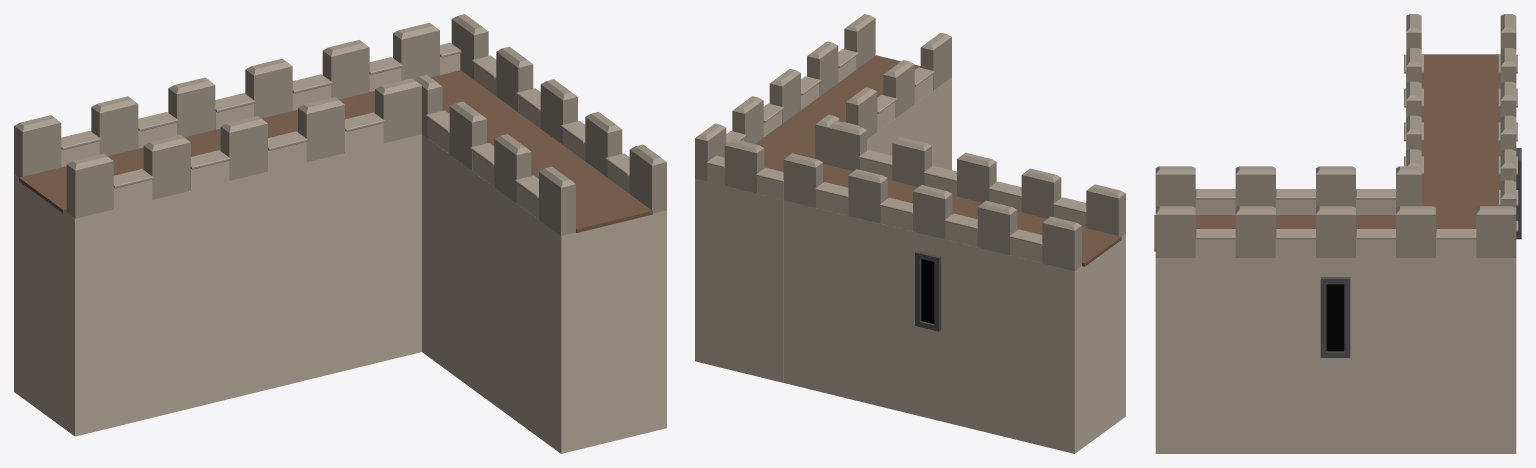
Rendered from new_wallB.fbx.
The picture shows the model from 3 angles, left to right: view 1: azimuth 30°, elevation 25°; view 2: azimuth 150°, elevation 25°; view 3: azimuth 270°, elevation 25°; orthographic projection. The views are drawn at different scales.
Visible parts, largest first — view 1: wall_A2, wall_A3, floor3, floor1, spike1, spike6, spike2, spike3, spike4, spike5, spike7, spike9 (+16 smaller); view 2: wall_A2, wall_A3, floor3, floor1, window1, spike6, spike1, spike21, spike7, spike9, spike8, spike10 (+18 smaller); view 3: wall_A3, floor1, window3, floor3, spike25, spike27, spike28, spike30, spike26, spike23, spike22, spike24 (+26 smaller).
Boxes of the visible parts, x1,y1,x2,y2 form: wall_A2: (14, 134, 421, 436); wall_A3: (422, 134, 666, 453); floor3: (431, 70, 652, 232); floor1: (19, 91, 374, 213); spike1: (66, 153, 113, 218); spike6: (14, 115, 61, 177); spike2: (143, 134, 190, 199); spike3: (220, 116, 267, 180); spike4: (298, 97, 344, 162); spike5: (375, 78, 421, 143); spike7: (91, 96, 138, 155); spike9: (245, 58, 292, 118); wall_A2: (784, 200, 1125, 453); wall_A3: (695, 77, 951, 382); floor3: (755, 55, 920, 171); floor1: (823, 164, 1121, 266); window1: (915, 250, 941, 331); spike6: (1042, 216, 1081, 270); spike1: (1086, 184, 1125, 236); spike21: (724, 139, 764, 193); spike7: (977, 200, 1017, 255); spike9: (848, 169, 887, 223); spike8: (913, 185, 952, 239); spike10: (783, 153, 822, 207); wall_A3: (1155, 258, 1516, 453); floor1: (1421, 54, 1500, 215); window3: (1320, 277, 1350, 357); floor3: (1154, 215, 1476, 251); spike25: (1476, 206, 1516, 257); spike27: (1235, 206, 1275, 257); spike28: (1155, 206, 1195, 257); spike30: (1316, 206, 1355, 257); spike26: (1396, 206, 1435, 257); spike23: (1235, 166, 1275, 207); spike22: (1155, 166, 1195, 207); spike24: (1316, 166, 1355, 207).
Size of the model in its own units: 659 by 369 by 505.
